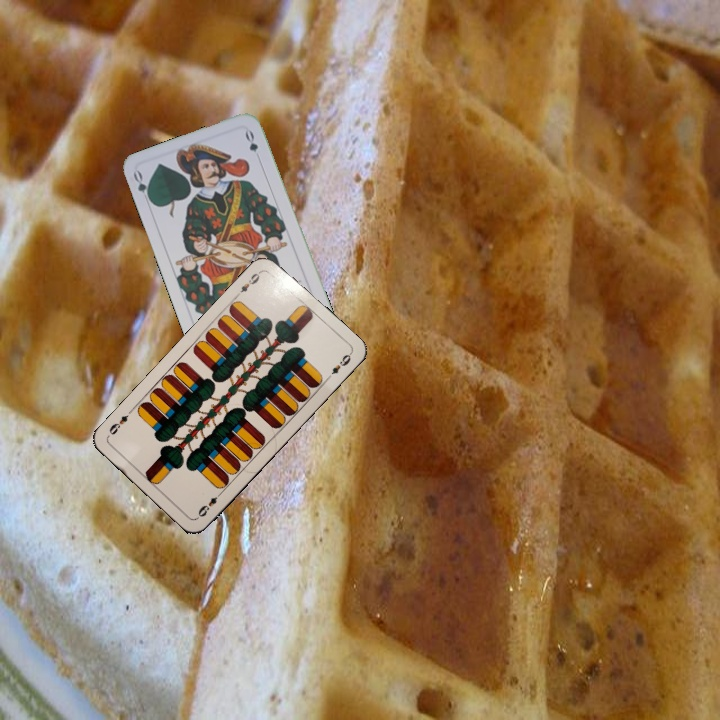E9: (193, 488, 225, 520), (232, 267, 264, 299)
GO: (129, 167, 155, 207)
